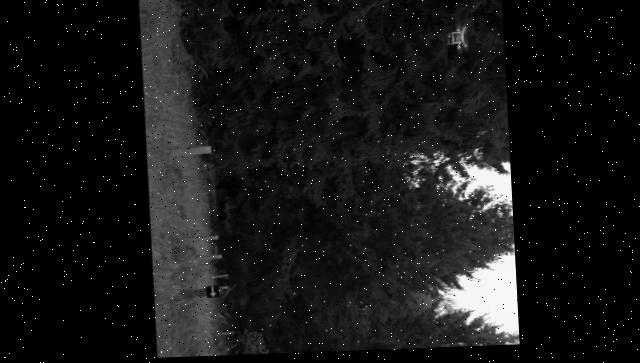drone: (447, 27, 469, 54)
